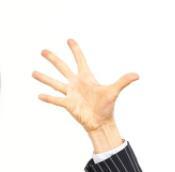down: (32, 38, 139, 126)
